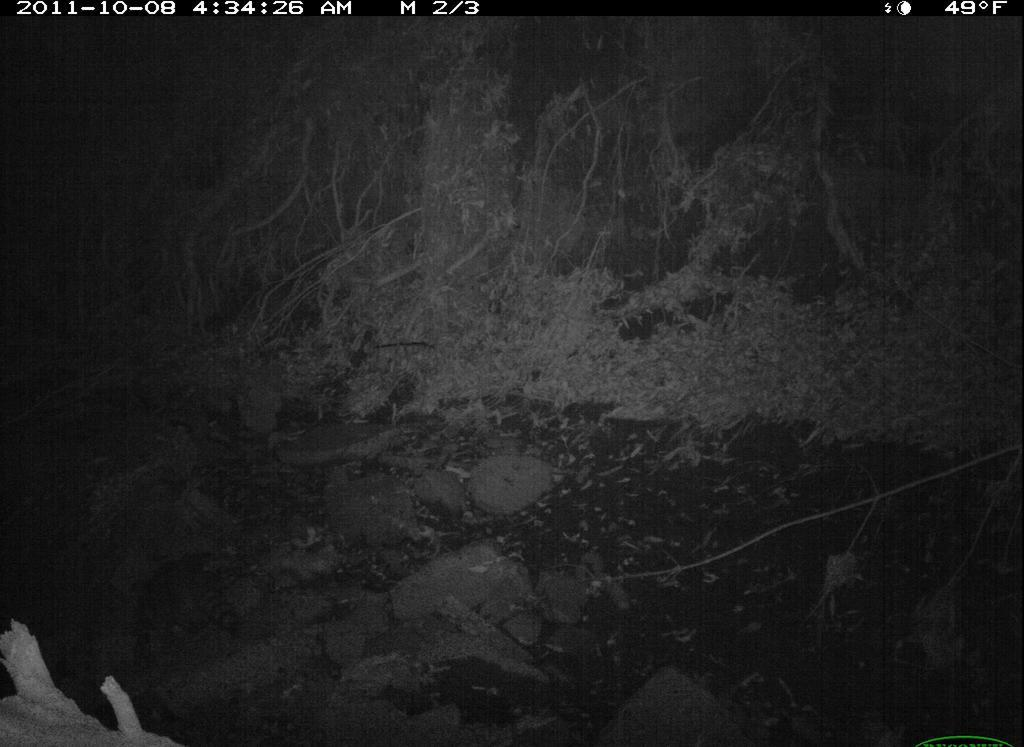raccoon: (126, 537, 259, 660)
